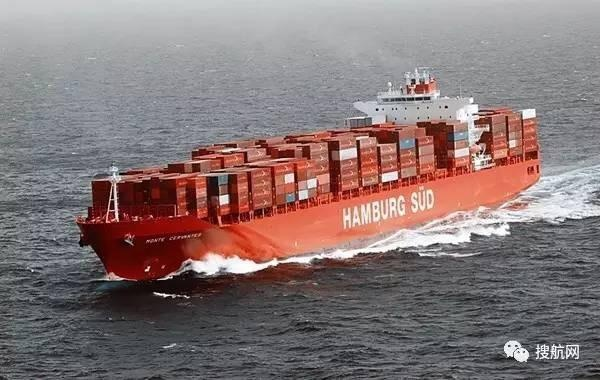Cargoship: (75, 63, 546, 288)
